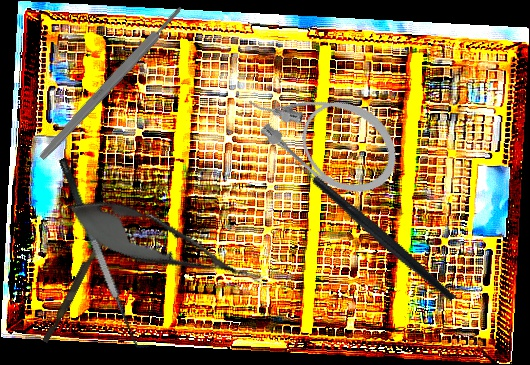Cannula: (233, 55, 414, 211)
Chopper: (278, 119, 457, 342)
Micro Scissor: (56, 184, 272, 305)
Pusher: (41, 208, 119, 346)
Scalpel Handle: (37, 3, 186, 163)
Spatula Surgical: (56, 151, 154, 355)
